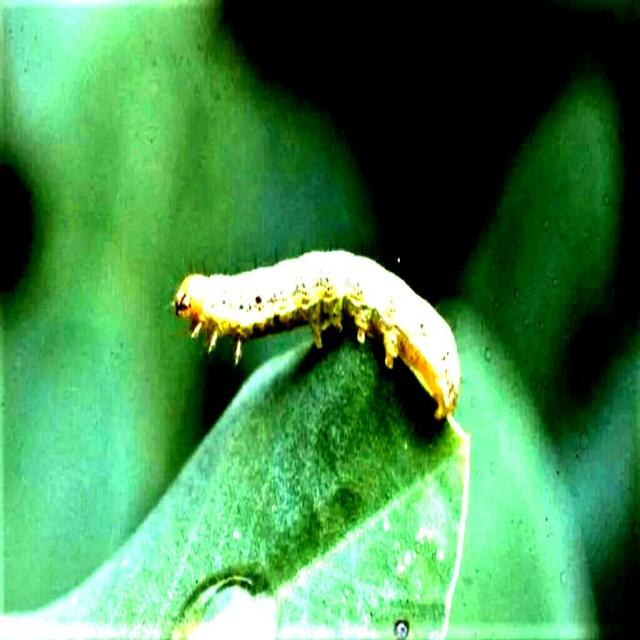armyworm: (170, 246, 460, 422)
